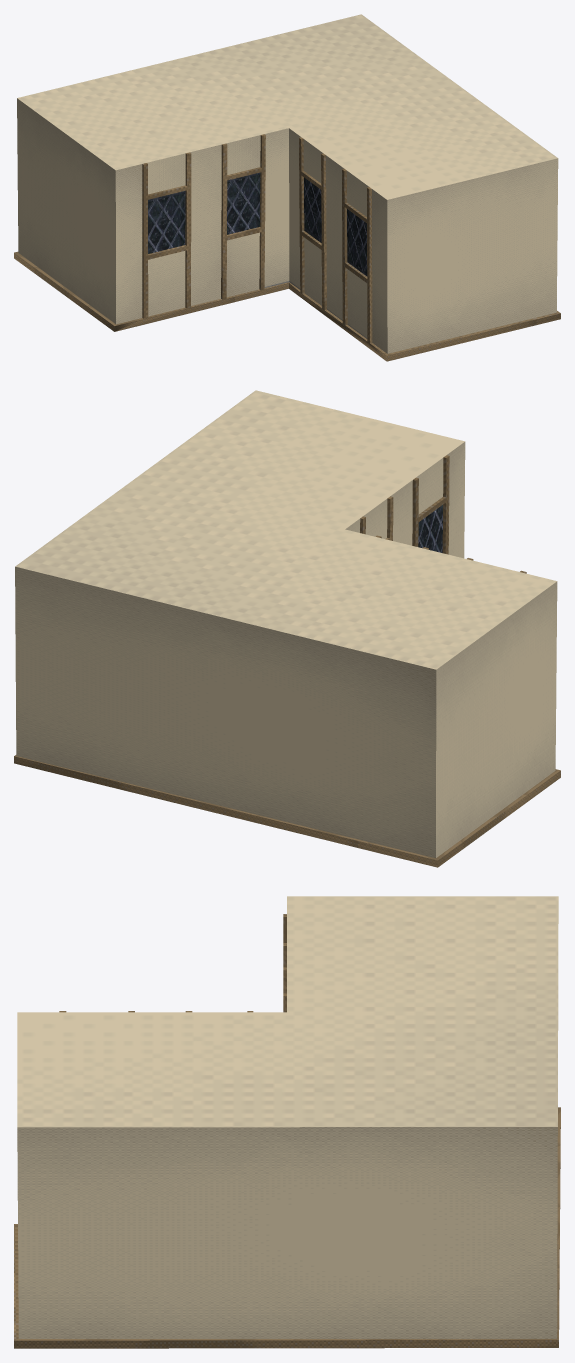
Rendered from house_corner_mid.fbx.
3 renders of one model, top to bottom at view 1: azimuth 30°, elevation 25°; view 2: azimuth 150°, elevation 25°; view 3: azimuth 270°, elevation 25°, orthographic. The views are drawn at different scales.
Visible parts, largest first — view 1: corner_mid; view 2: corner_mid; view 3: corner_mid.
Boxes of the visible parts, x1,y1,x2,y2 form: corner_mid: [14, 14, 560, 361]; corner_mid: [14, 390, 560, 867]; corner_mid: [14, 896, 560, 1348].
Bounding box in the file's own units: 31.48 × 13.87 × 31.18.
Materials: 2 (2 with a texture image).
